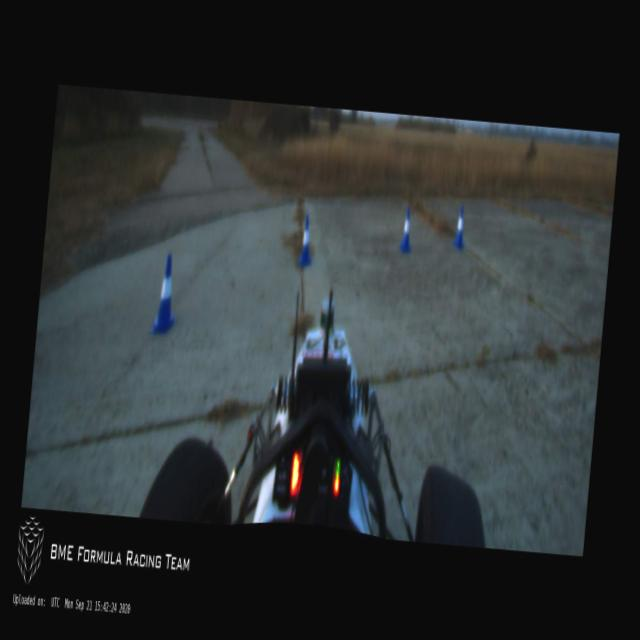blue_cone: (151, 252, 180, 334), (298, 215, 314, 267), (399, 205, 414, 252), (452, 206, 467, 248)
